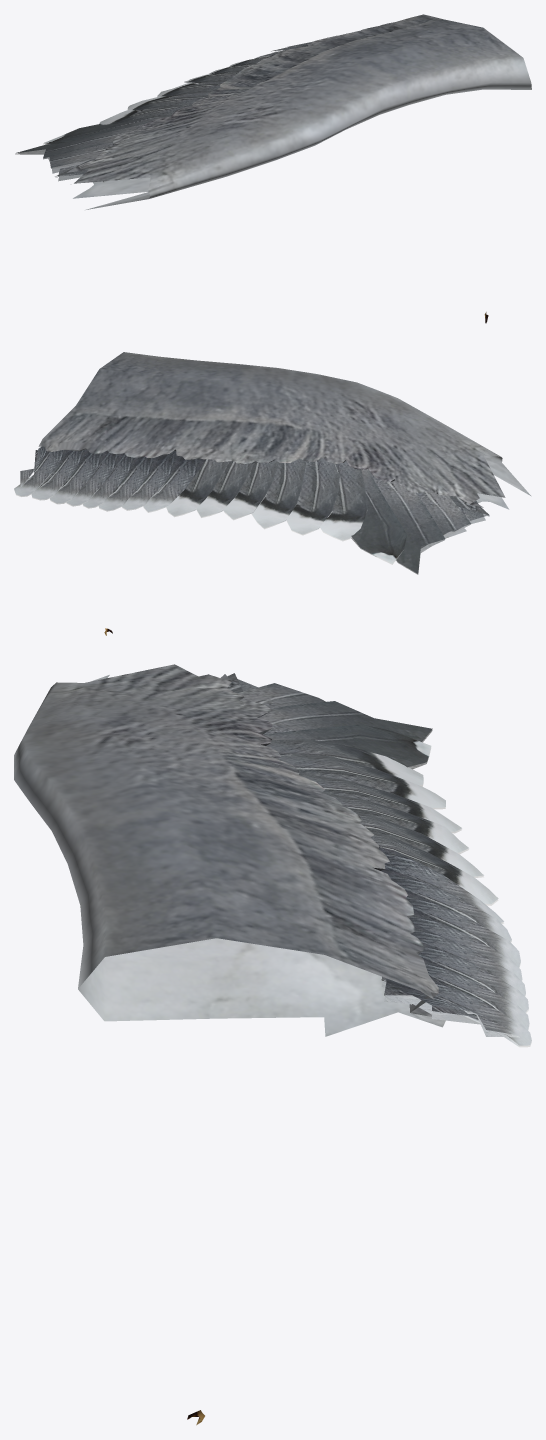
The model's file is Seagull_L_in.gltf.
3 views of the same model, one above another, from view 1: azimuth 30°, elevation 25°; view 2: azimuth 150°, elevation 25°; view 3: azimuth 270°, elevation 25° (orthographic). The views are drawn at different scales.
Parts seen in each view (by area): view 1: Seagull_L_in; view 2: Seagull_L_in; view 3: Seagull_L_in.
Part boxes in pixels (x1,y1,x2,y2): Seagull_L_in: [15, 14, 531, 323]; Seagull_L_in: [14, 352, 531, 635]; Seagull_L_in: [14, 664, 531, 1425].
Bounding box in the file's own units: 0.348 × 0.2217 × 0.2069.
Materials: 1 (1 with a texture image).
